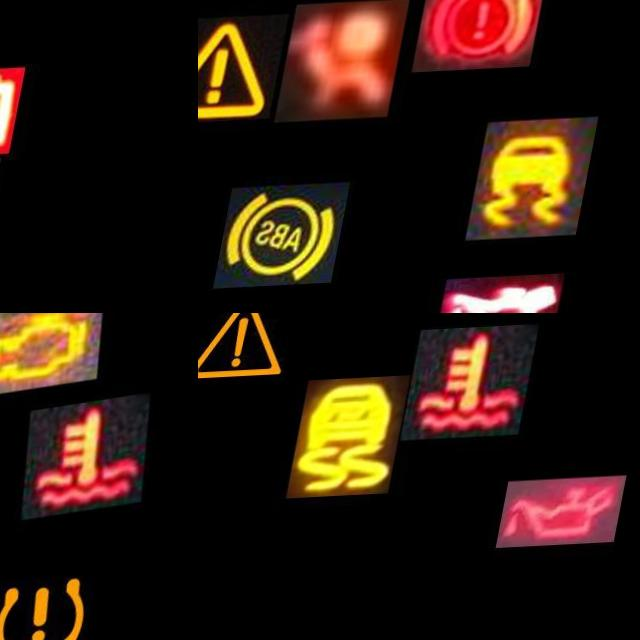Central Warning lamp: (198, 313, 322, 399), (198, 16, 290, 126)
Engine cooling system: (22, 398, 169, 525), (418, 329, 553, 445)
